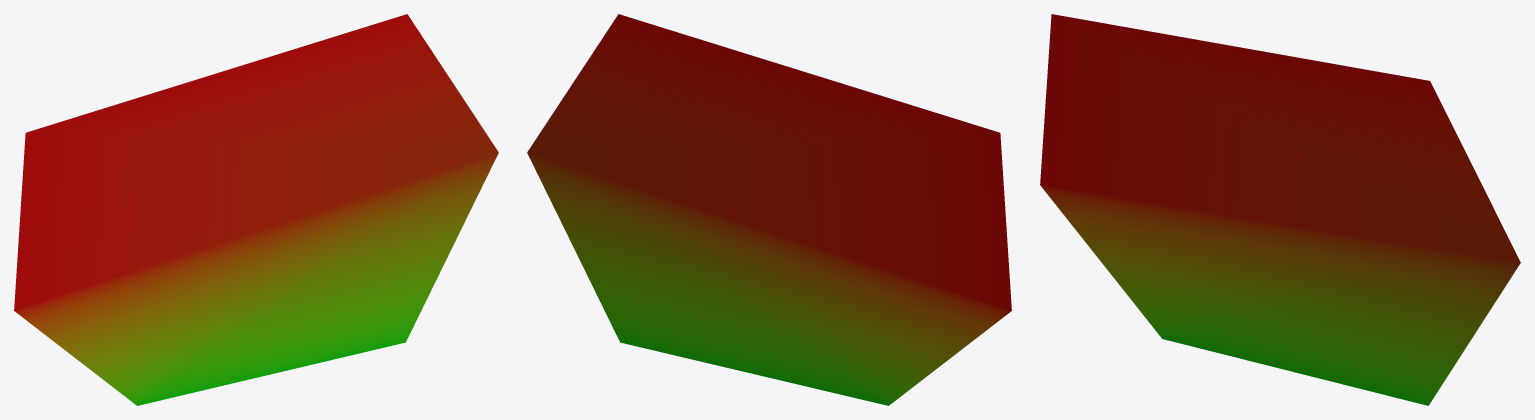
Rendered from Common Hemp Nettle_LOD7_Var7_xh1kdfbqx.fbx.
The picture shows the model from 3 angles, left to right: view 1: azimuth 30°, elevation 25°; view 2: azimuth 150°, elevation 25°; view 3: azimuth 330°, elevation 25°; orthographic projection.
Parts seen in each view (by area): view 1: _cjd1_Var7_LOD7; view 2: _cjd1_Var7_LOD7; view 3: _cjd1_Var7_LOD7.
Part boxes in pixels (bbox=[...]): _cjd1_Var7_LOD7: bbox=[14, 14, 498, 405]; _cjd1_Var7_LOD7: bbox=[527, 14, 1011, 405]; _cjd1_Var7_LOD7: bbox=[1040, 14, 1520, 405].
Bounding box in the file's own units: 97.96 × 63.35 × 2.77e-06.
